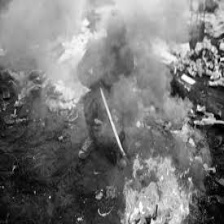smoke: (132, 4, 194, 179), (2, 1, 68, 69)
